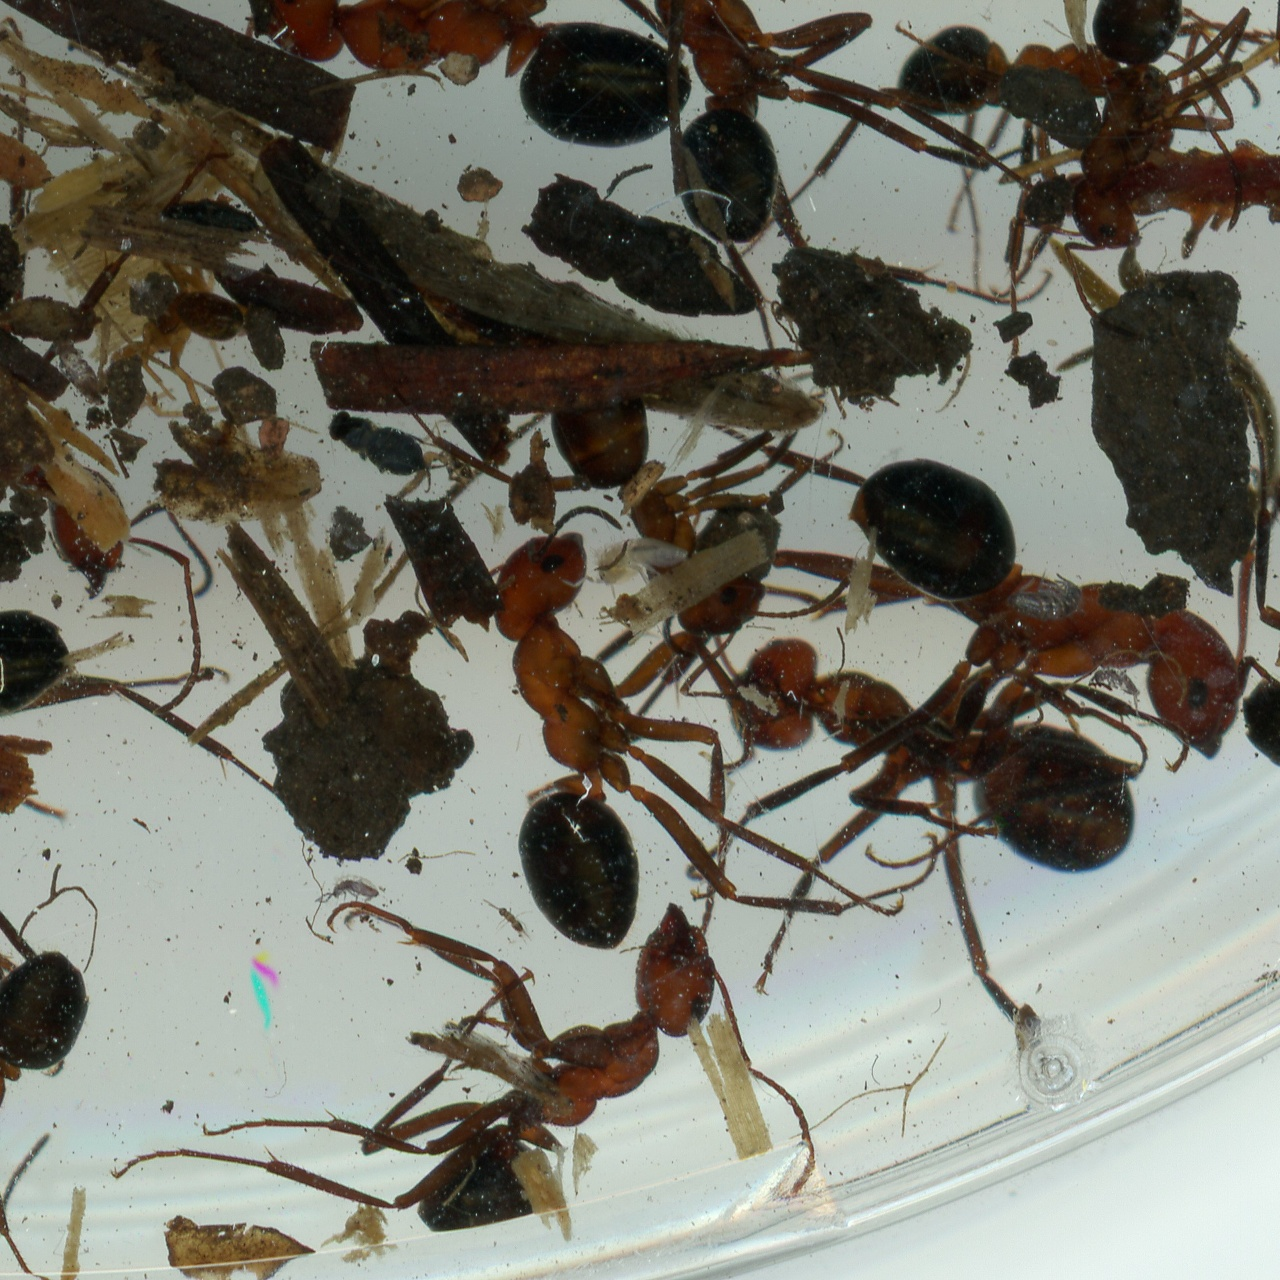arthropod: (563, 376, 1280, 1154), (50, 799, 806, 1280), (421, 490, 894, 964), (688, 609, 1195, 1039), (597, 0, 1047, 308), (0, 543, 313, 959), (0, 330, 301, 752), (455, 400, 864, 704), (79, 0, 703, 158), (787, 20, 1210, 205), (1052, 0, 1280, 338), (0, 864, 97, 1279), (1237, 390, 1280, 787), (568, 509, 716, 615), (318, 406, 451, 496), (46, 327, 117, 419), (467, 874, 545, 955), (1006, 570, 1086, 623), (1086, 666, 1144, 724), (318, 874, 388, 902)
